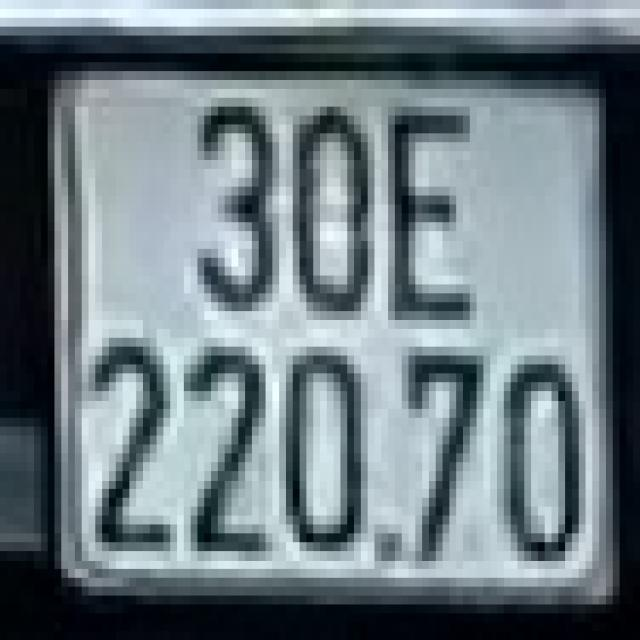0: (279, 347, 368, 551), (293, 98, 374, 320), (504, 356, 585, 560)
2: (184, 338, 272, 560), (89, 338, 177, 551)
3: (191, 98, 279, 311)
7: (402, 347, 483, 560)
E: (388, 98, 477, 320)
